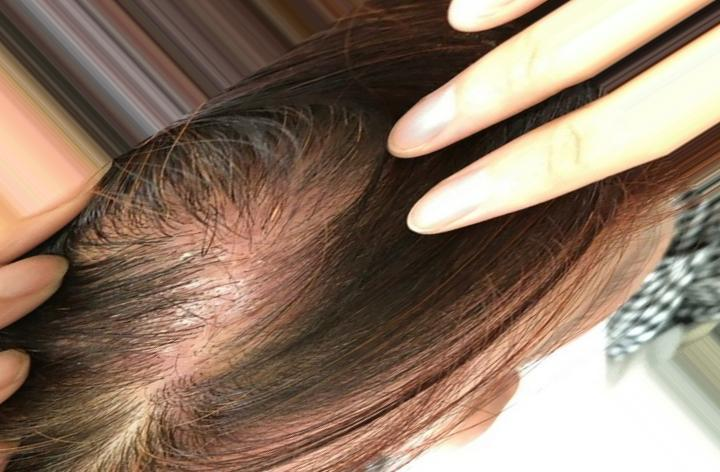Contact Dermatitis: (108, 144, 359, 371)
